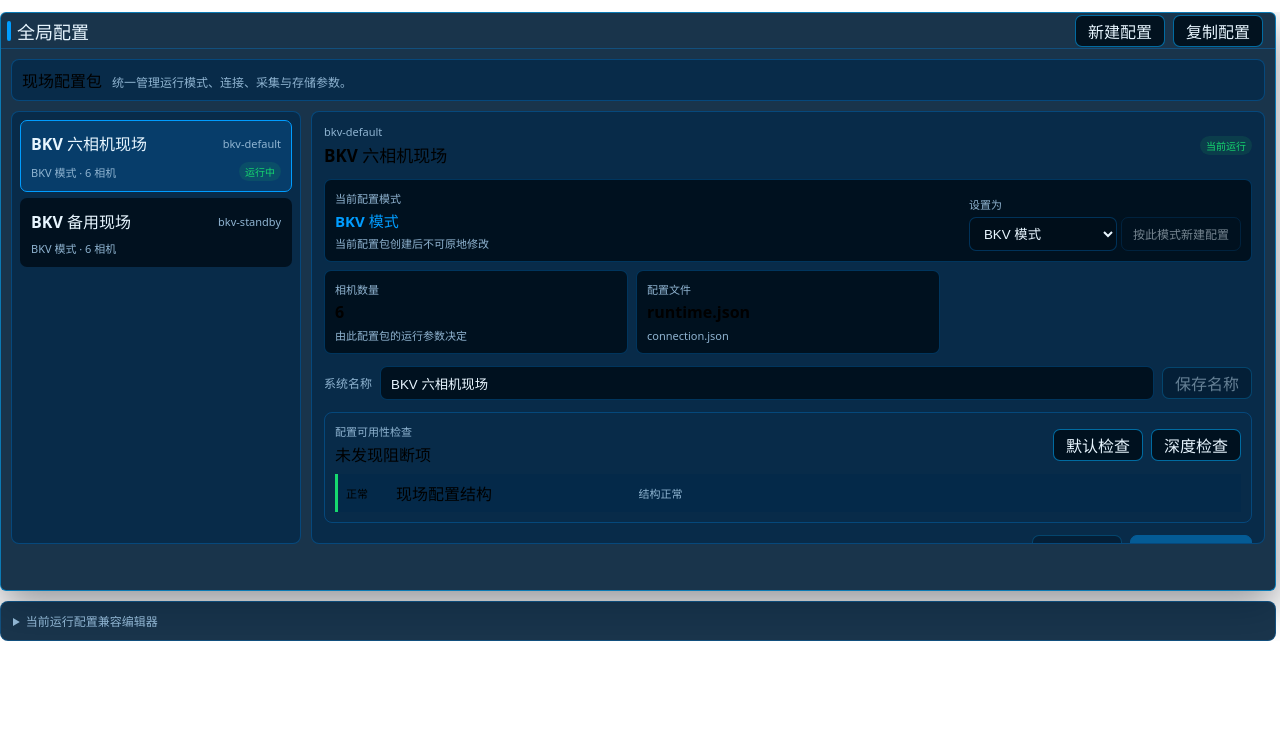
Scenario: GlobalConfigurationPanel › prepares a new configuration when the desired mode changes
Select "相机直连模式" in the dropdown named "设置配置模式" at (1043, 234), box [969, 217, 1117, 251]
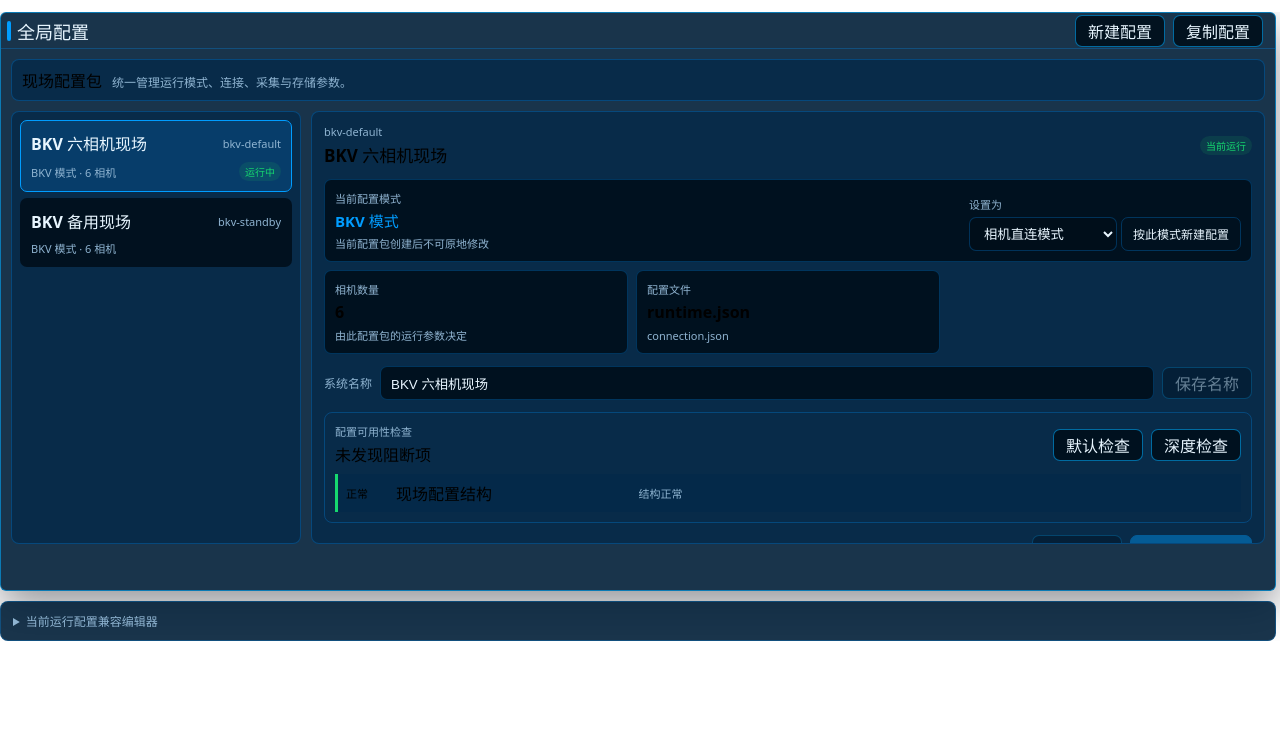
Click the button "按此模式新建配置" at (1181, 234), box [1121, 217, 1241, 251]
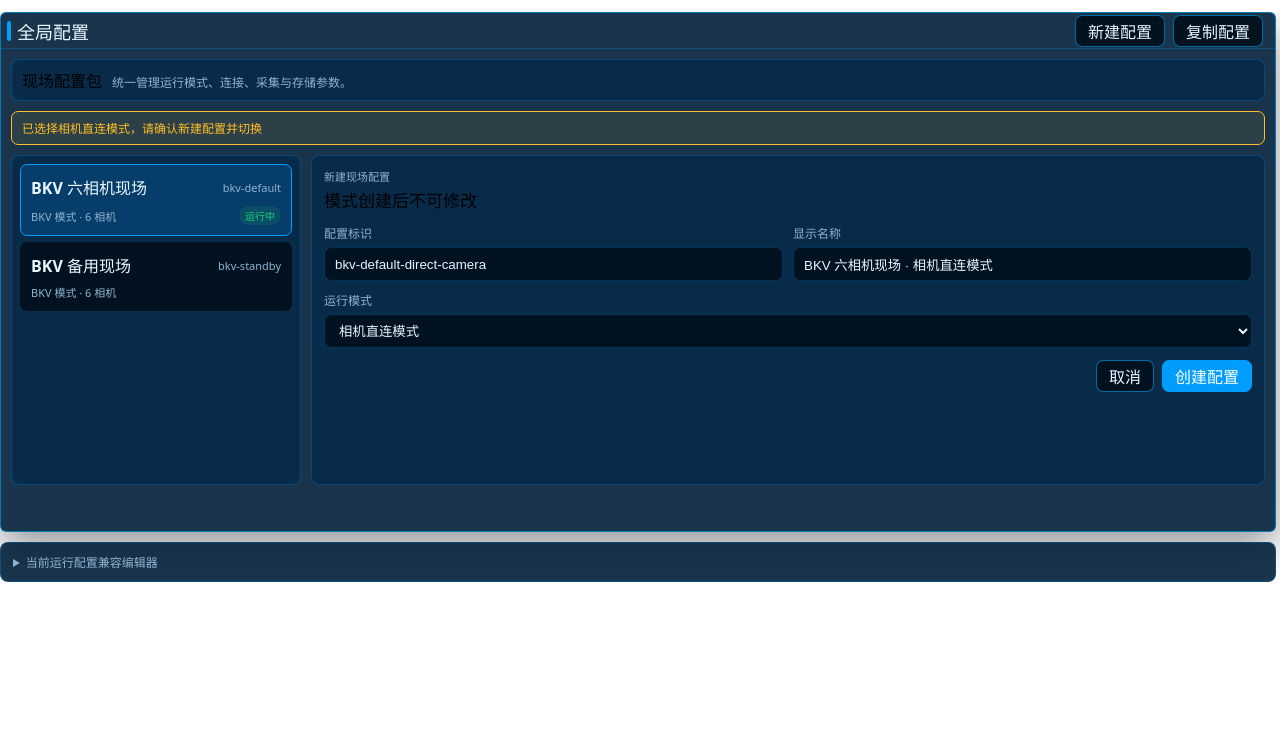
Expected: the dropdown labelled "运行模式" shows "相机直连模式", [324, 314, 1252, 348]
Expected: the field labelled "配置标识" holds "bkv-default-direct-camera", [324, 247, 783, 281]
Expected: the text "已选择相机直连模式，请确认新建配置并切换" is shown, [11, 111, 1265, 145]
